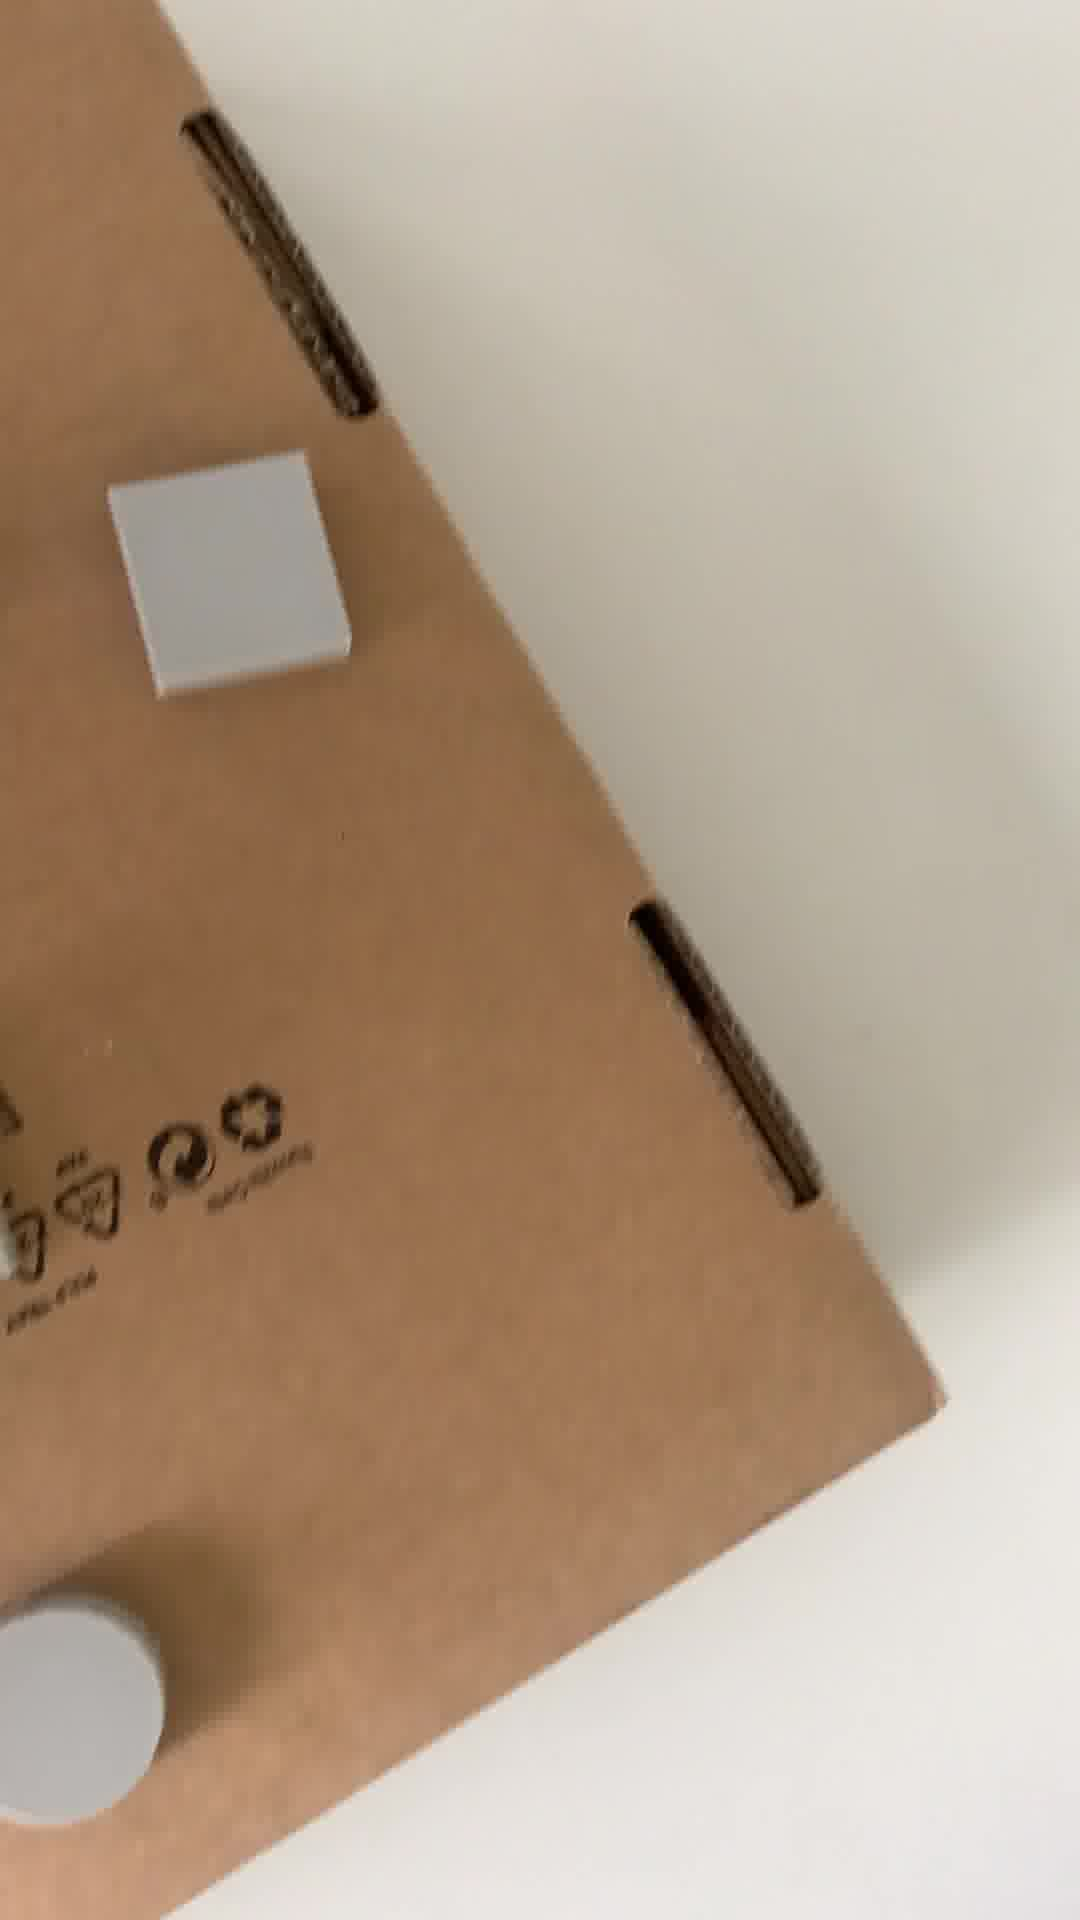Gray circle: (1, 1586, 186, 1842)
Gray square: (100, 438, 355, 735)
